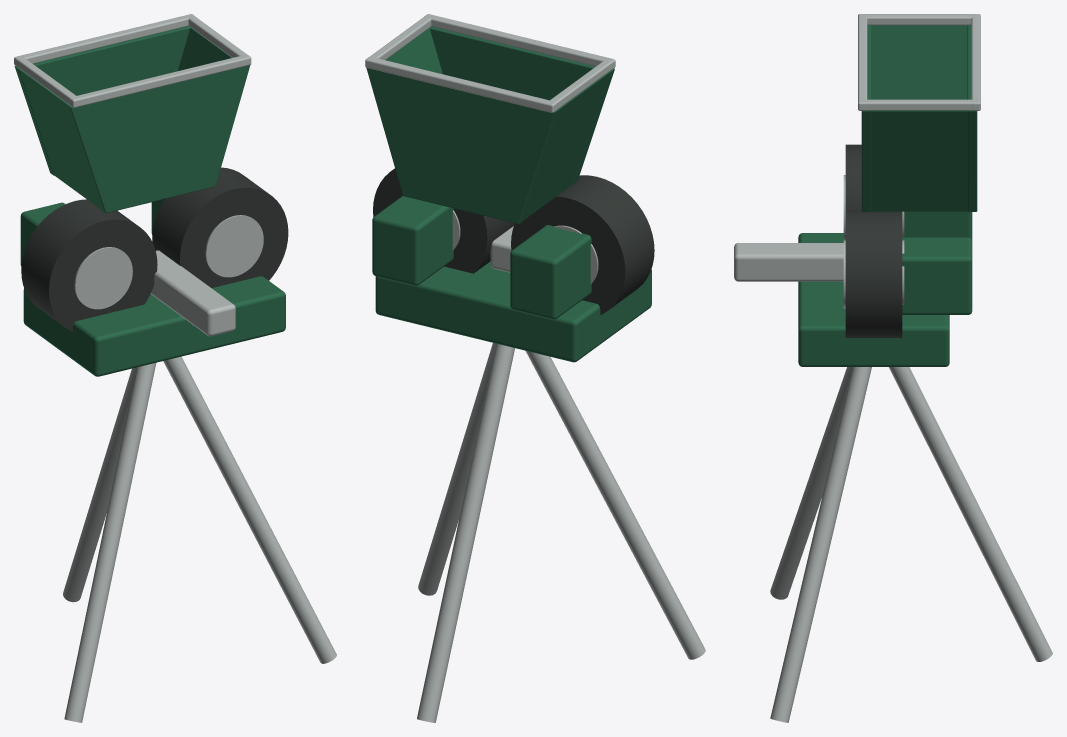
File: cricket-ground-and-pavilion-bowling-machine-167dd739__31344.glb
The picture shows the model from 3 angles, left to right: view 1: azimuth 30°, elevation 25°; view 2: azimuth 150°, elevation 25°; view 3: azimuth 270°, elevation 25°; orthographic projection. The views are drawn at different scales.
Parts seen in each view (by area): view 1: bowling-machine; view 2: bowling-machine; view 3: bowling-machine.
Boxes of the visible parts, box(x1,y1,x2,y2) form: bowling-machine: box(14, 14, 336, 722); bowling-machine: box(365, 14, 705, 722); bowling-machine: box(734, 14, 1052, 722).
Size of the model in its own units: 0.8464 by 1.76 by 0.8427.
